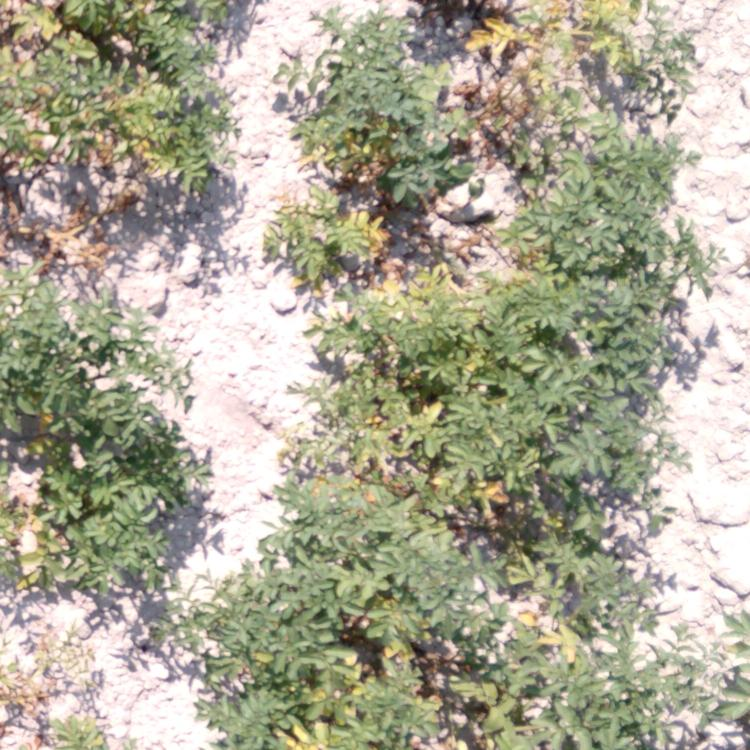healthy: (82, 410, 207, 590), (554, 147, 704, 275), (620, 604, 750, 750), (1, 283, 154, 404), (538, 374, 648, 496), (539, 277, 674, 369), (304, 24, 421, 120)
stressed: (295, 500, 620, 750), (292, 278, 542, 498), (1, 1, 234, 183), (472, 1, 667, 106), (257, 177, 426, 281), (1, 400, 88, 594), (228, 551, 290, 731), (292, 122, 464, 178), (481, 103, 639, 145), (493, 215, 545, 274), (26, 222, 99, 264), (164, 600, 221, 650), (49, 710, 99, 750)
